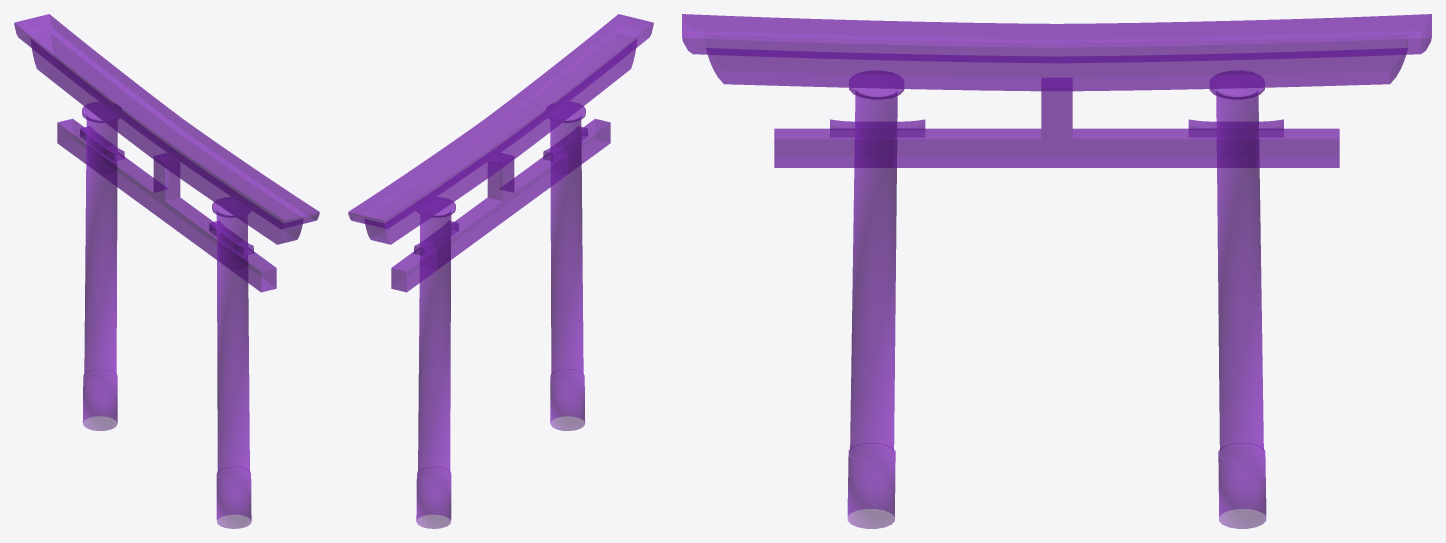
File: torii_gate.obj
The picture shows the model from 3 angles, left to right: view 1: azimuth 30°, elevation 25°; view 2: azimuth 150°, elevation 25°; view 3: azimuth 270°, elevation 25°; orthographic projection. The views are drawn at different scales.
Parts seen in each view (by area): view 1: Cylinder; view 2: Cylinder; view 3: Cylinder.
Part boxes in pixels (x1,y1,x2,y2): Cylinder: (14, 14, 319, 528); Cylinder: (348, 14, 653, 528); Cylinder: (682, 14, 1431, 528).
Size of the model in its own units: 0.5533 by 5.33 by 7.35.
